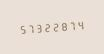eight: (62, 19, 70, 32)
five: (17, 22, 25, 35)
four: (80, 18, 88, 31)
seven: (26, 21, 34, 35), (71, 18, 79, 32)
three: (35, 21, 43, 34)
two: (53, 19, 61, 33), (44, 20, 52, 33)
